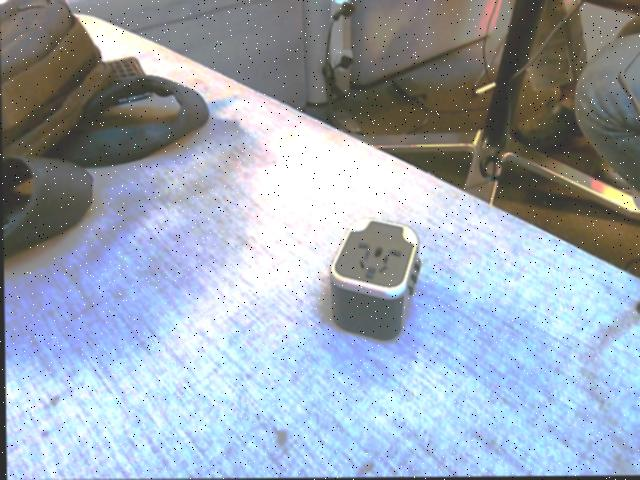adapter: (327, 218, 421, 342)
